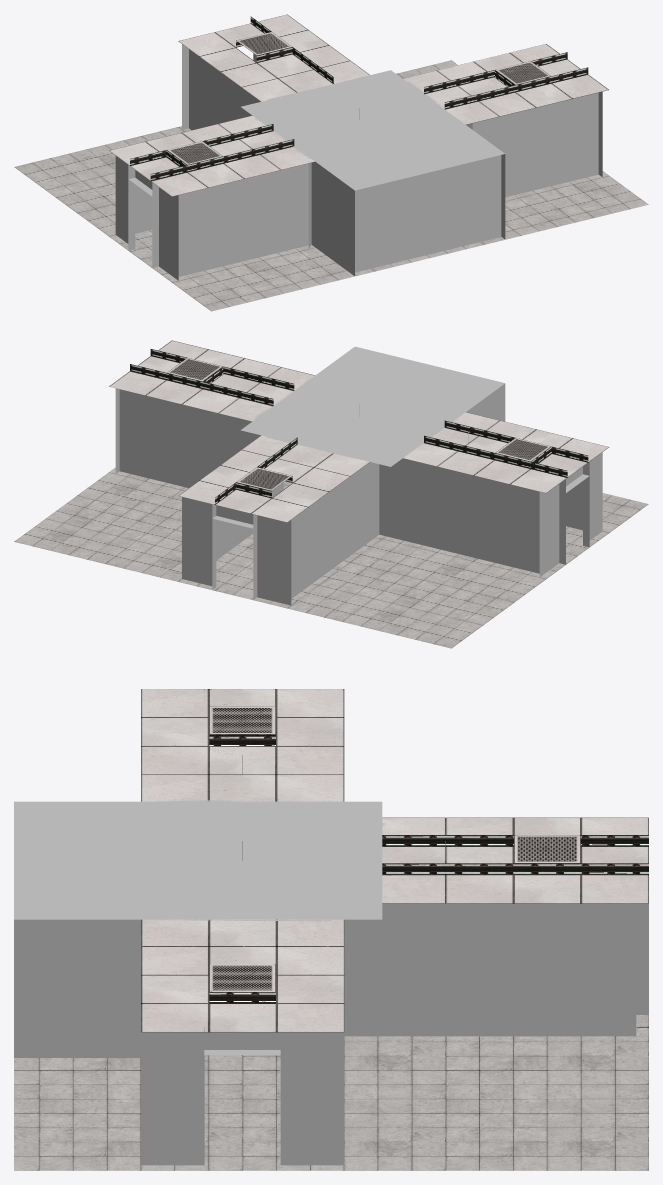
The model's file is room3z3_opt.fbx.
3 renders of one model, top to bottom at view 1: azimuth 30°, elevation 25°; view 2: azimuth 150°, elevation 25°; view 3: azimuth 270°, elevation 25°, orthographic. The views are drawn at different scales.
Parts seen in each view (by area): view 1: Scene_Root; view 2: Scene_Root; view 3: Scene_Root.
Boxes of the visible parts, left/top/right/bottom form: Scene_Root: left=14, top=14, right=648, bottom=311; Scene_Root: left=14, top=340, right=648, bottom=648; Scene_Root: left=14, top=689, right=648, bottom=1170.
Size of the model in its own units: 1485 by 318 by 1160.
